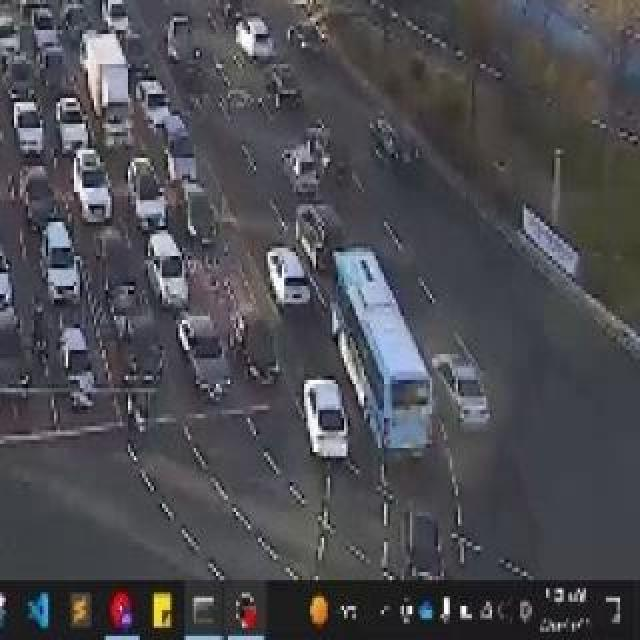truck: (80, 24, 140, 160)
